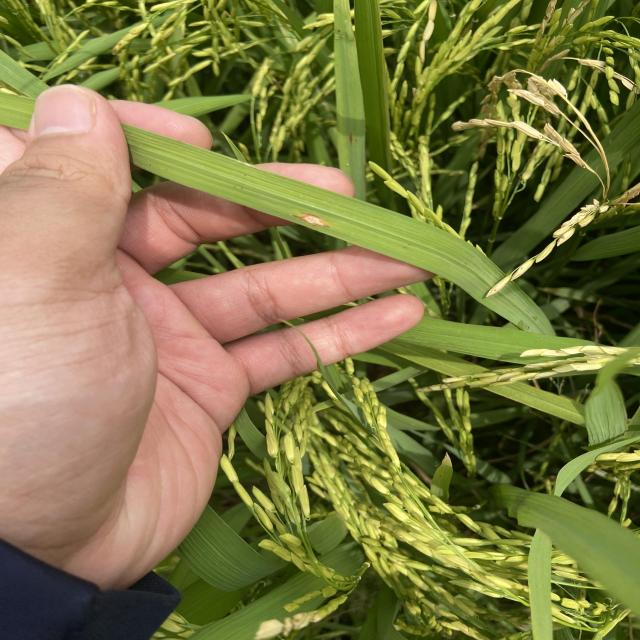Dao on: (291, 213, 331, 228)
